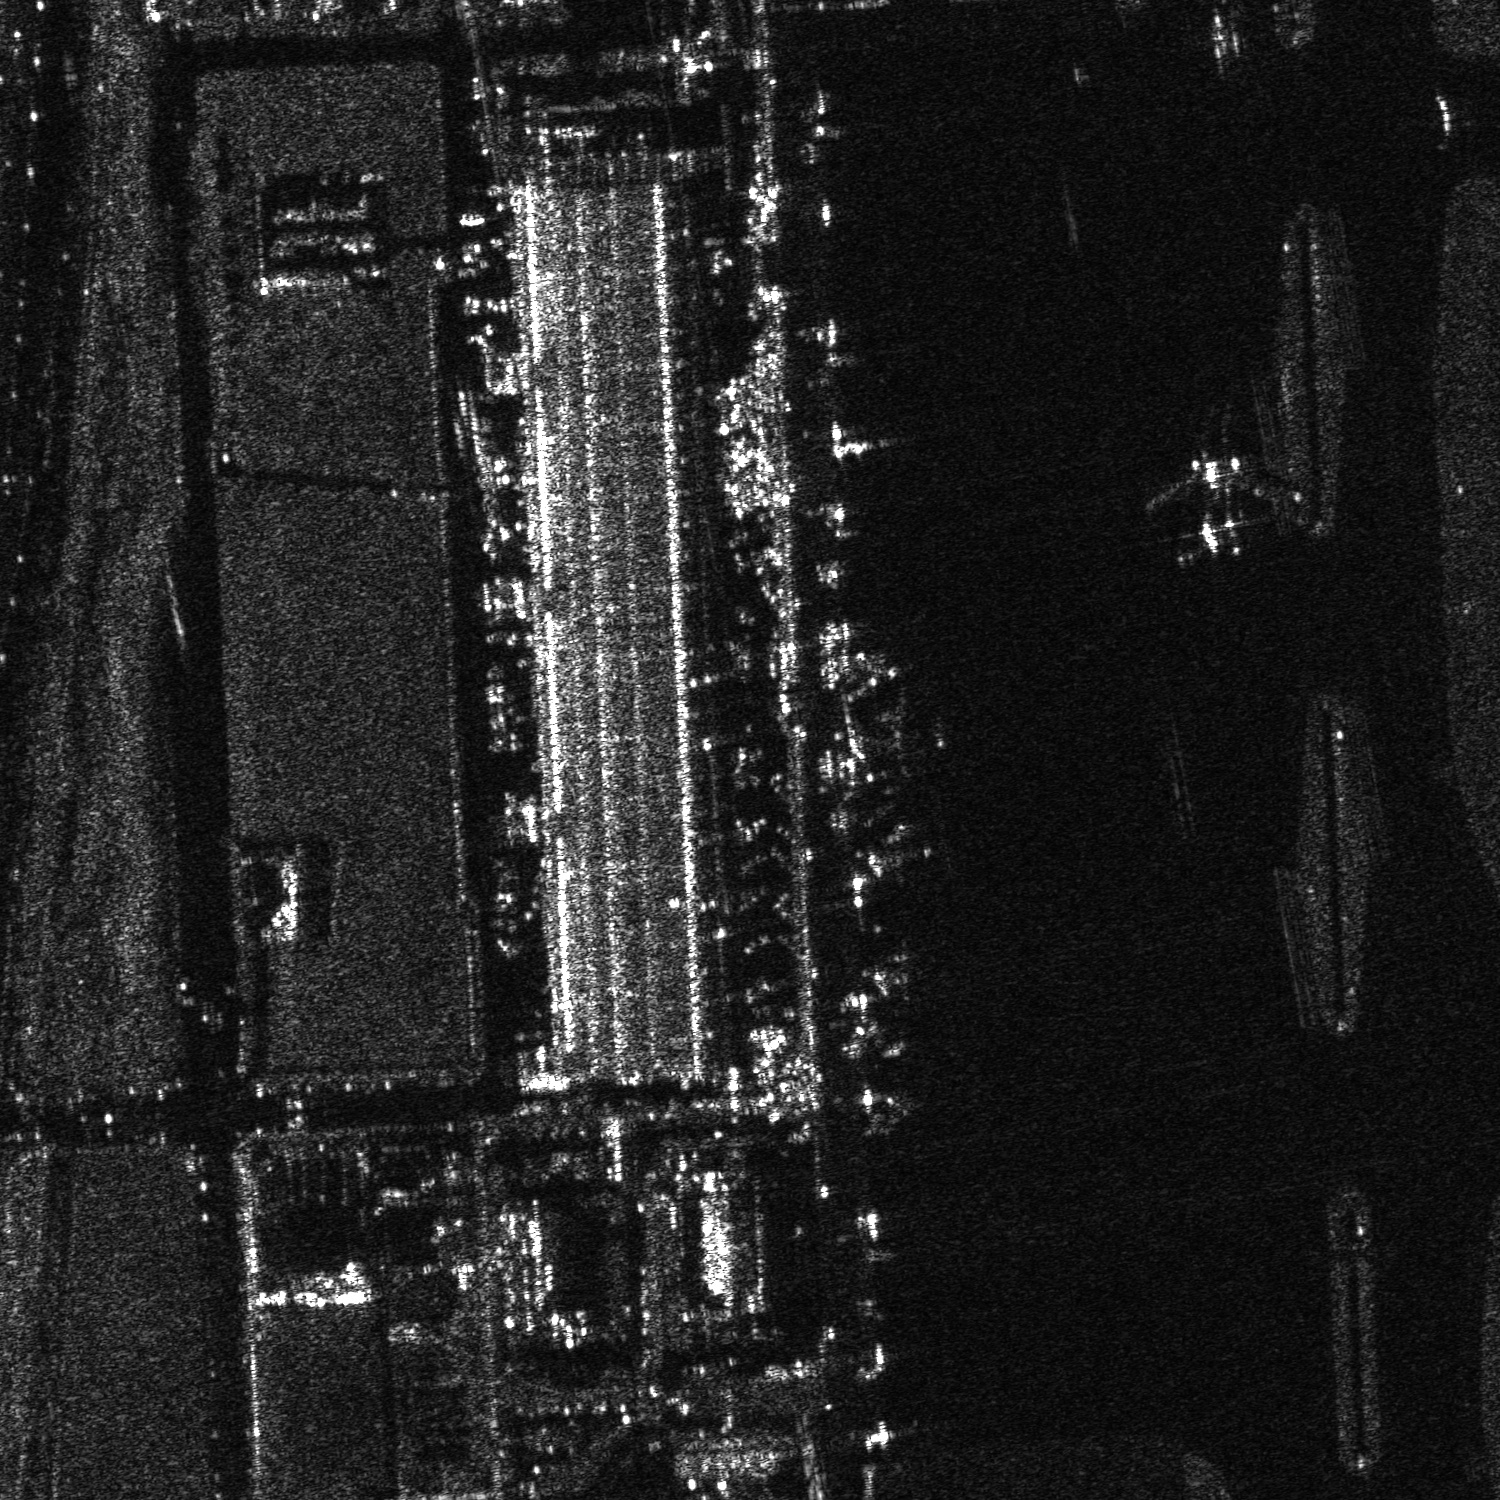A220: (839, 685, 953, 797)
other: (1143, 451, 1284, 577), (850, 812, 956, 894), (863, 934, 940, 1015)
